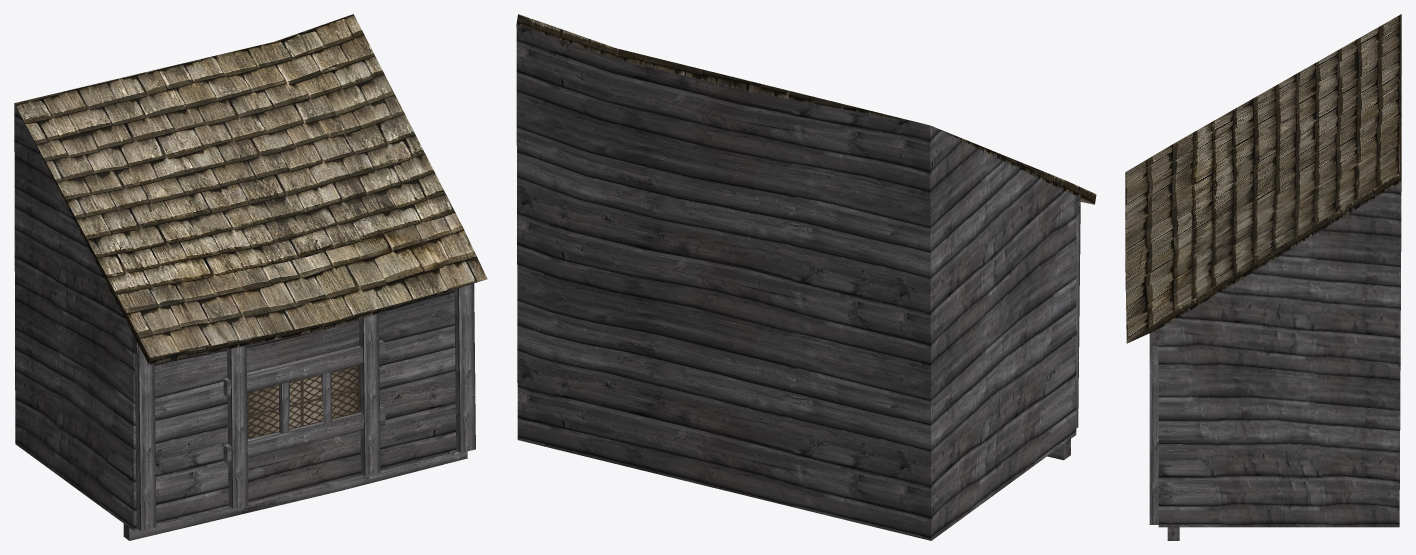
Rendered from v3_balcony3_LOD.dae.
The picture shows the model from 3 angles, left to right: view 1: azimuth 30°, elevation 25°; view 2: azimuth 150°, elevation 25°; view 3: azimuth 270°, elevation 25°; orthographic projection. The views are drawn at different scales.
Parts seen in each view (by area): view 1: roof_01, wood_planks, doorwindow_set; view 2: wood_planks, roof_01; view 3: wood_planks, roof_01.
Part boxes in pixels (box(x1,y1,x2,y2)): roof_01: box(14, 14, 487, 364); wood_planks: box(14, 103, 475, 540); doorwindow_set: box(247, 365, 360, 439); wood_planks: box(516, 24, 1080, 540); roof_01: box(516, 14, 1096, 204); wood_planks: box(1149, 182, 1401, 540); roof_01: box(1125, 14, 1401, 343).
Size of the model in its own units: 8 by 8.2 by 5.57.
